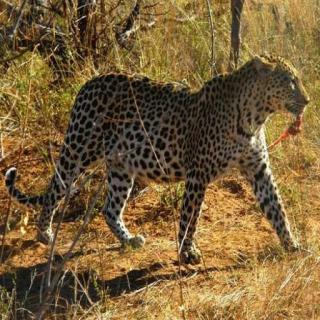Leopard: (51, 37, 320, 266)
